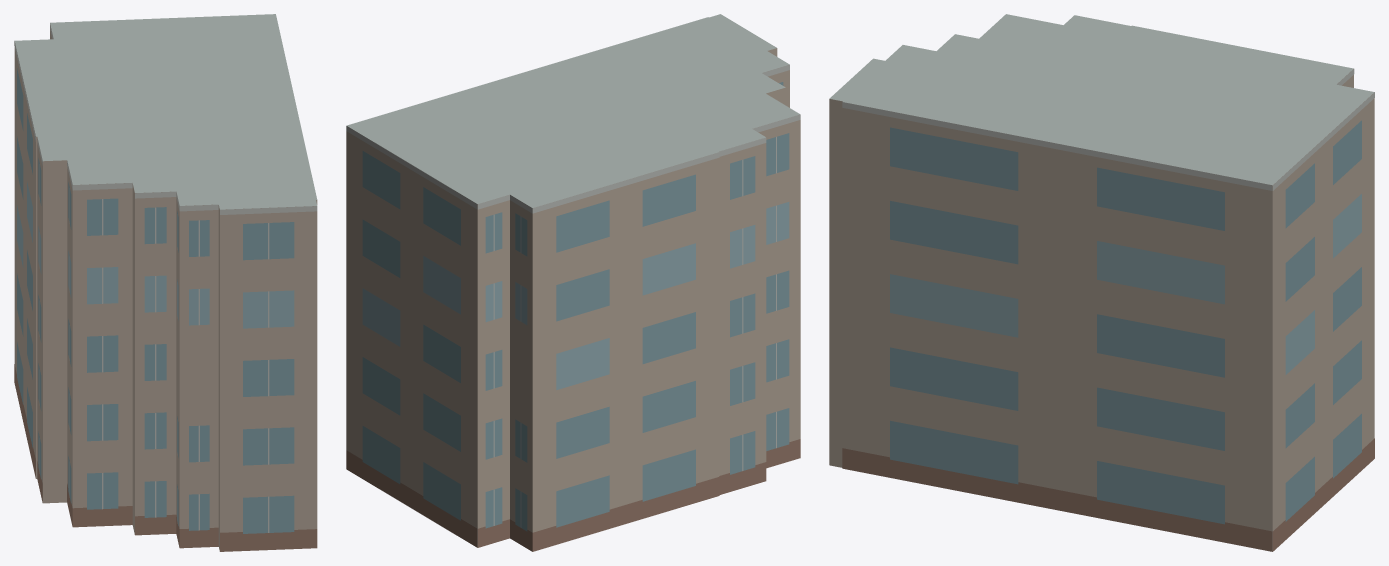
The model's file is survey-upis-32916709.glb.
The picture shows the model from 3 angles, left to right: view 1: azimuth 30°, elevation 25°; view 2: azimuth 150°, elevation 25°; view 3: azimuth 270°, elevation 25°; orthographic projection. The views are drawn at different scales.
Visible parts, largest first — view 1: survey-upis-32916709.tmp; view 2: survey-upis-32916709.tmp; view 3: survey-upis-32916709.tmp.
Boxes of the visible parts, x1,y1,x2,y2 form: survey-upis-32916709.tmp: [14, 14, 317, 551]; survey-upis-32916709.tmp: [346, 14, 800, 551]; survey-upis-32916709.tmp: [829, 14, 1374, 551].
Size of the model in its own units: 15.43 by 15.39 by 20.76.
